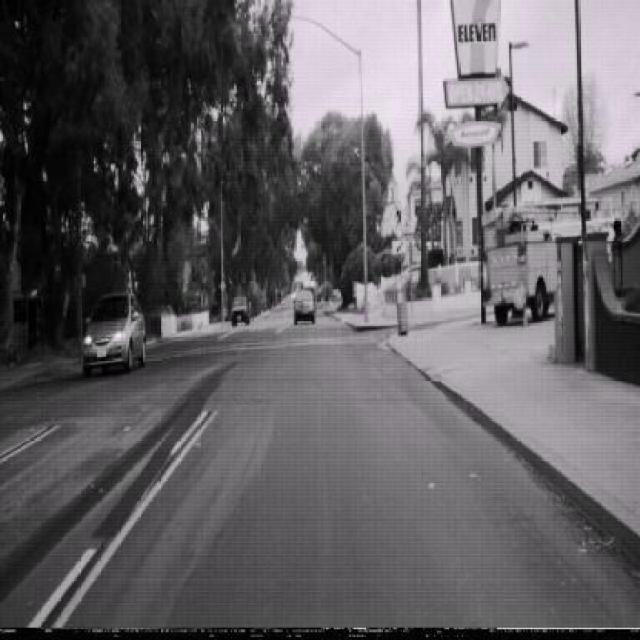pedestrianCrossing: (386, 197, 407, 238)
